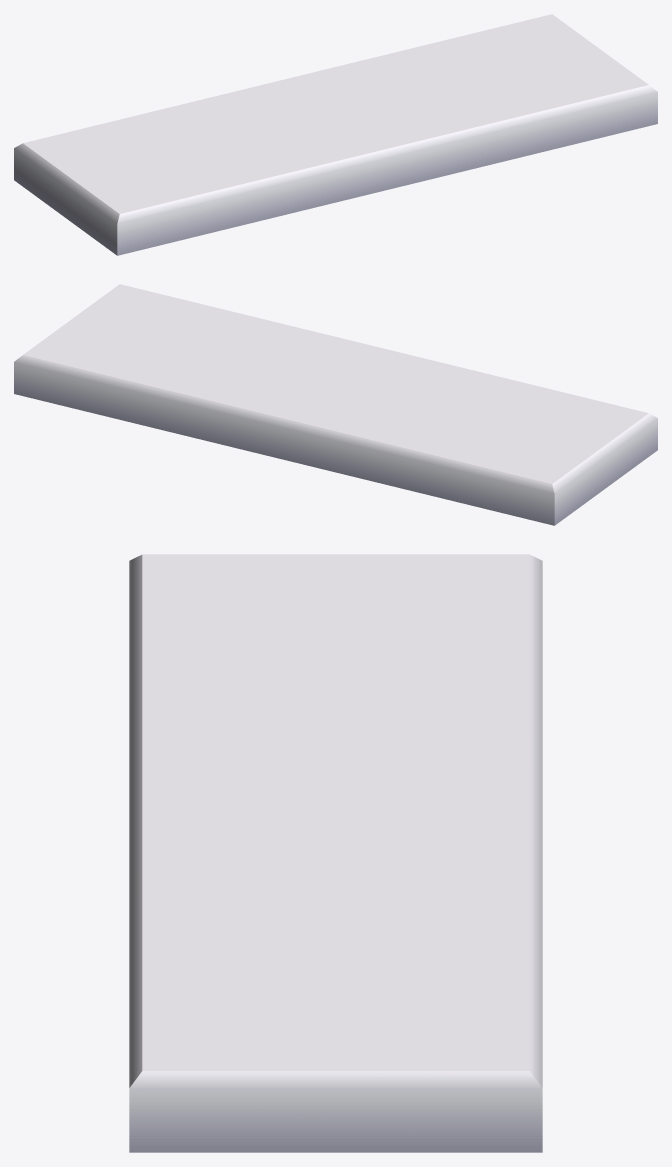
File: none-hq-plate-2x6.glb
3 views of the same model, one above another, from view 1: azimuth 30°, elevation 25°; view 2: azimuth 150°, elevation 25°; view 3: azimuth 270°, elevation 25° (orthographic). The views are drawn at different scales.
Visible parts, largest first — view 1: none-hq-plate-2x6; view 2: none-hq-plate-2x6; view 3: none-hq-plate-2x6.
Part boxes in pixels (x1,y1,x2,y2): none-hq-plate-2x6: (14, 14, 657, 255); none-hq-plate-2x6: (14, 284, 657, 525); none-hq-plate-2x6: (129, 554, 542, 1152).
Bounding box in the file's own units: 0.477 × 0.032 × 0.158.
Materials: 1 (1 with a texture image).
